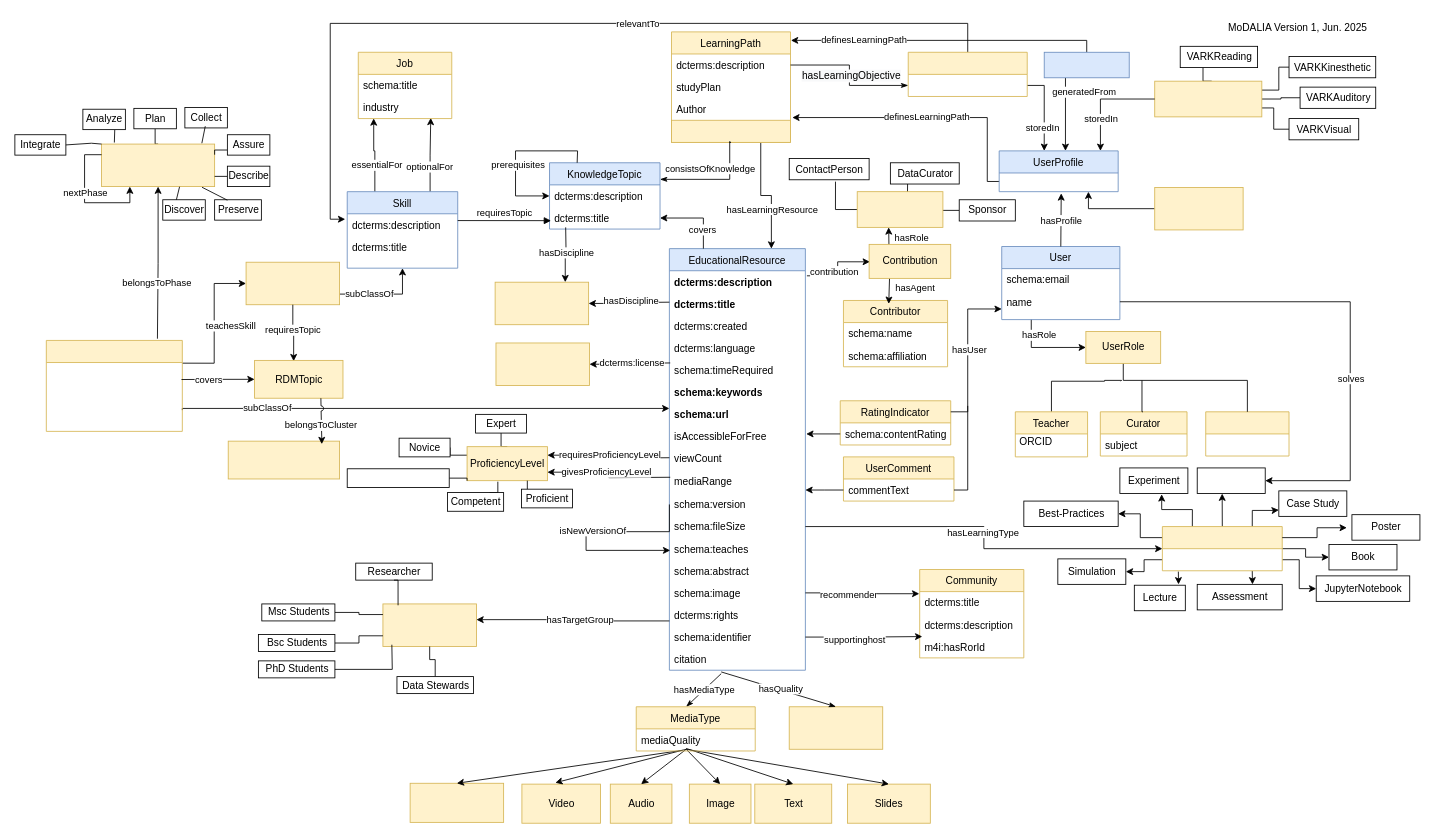
This 1435x838 diagram has some shape labels left out. The shapes that lost their labels are listed below. From the top down, each one's centre as x and y in pixels, then its label:
At (967,73): "LearningObjective".
At (1086,64): "Recommendation".
At (1208,98): "LearningPreference".
At (730,130): "OrderOfTopics:RDFlist".
At (158,165): "DataLifeCyclePhase".
At (899,209): "ContributorRole".
At (1198,208): "Organisation".
At (292,283): "RDMSkill".
At (541,303): "Discipline".
At (542,363): "License".
At (113,385): "RDMResource".
At (1247,433): "Learner".
At (283,459): "RDMSubjectCluster".
At (397,477): "Advanced Beginner".
At (1230,480): "Questionnaire".
At (1222,548): "LearningResourceType".
At (429,624): "TargetGroup".
At (835,727): "ContentQuality".
At (456,802): "Code/Script".
